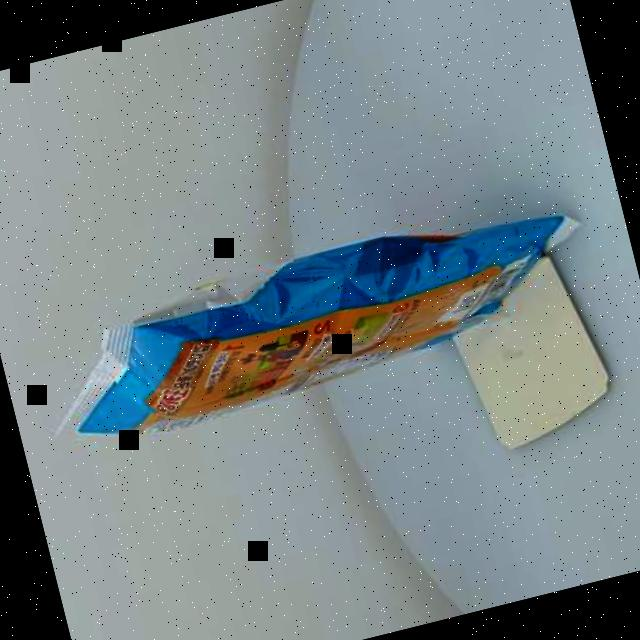snack_bag: (0, 152, 640, 530)
